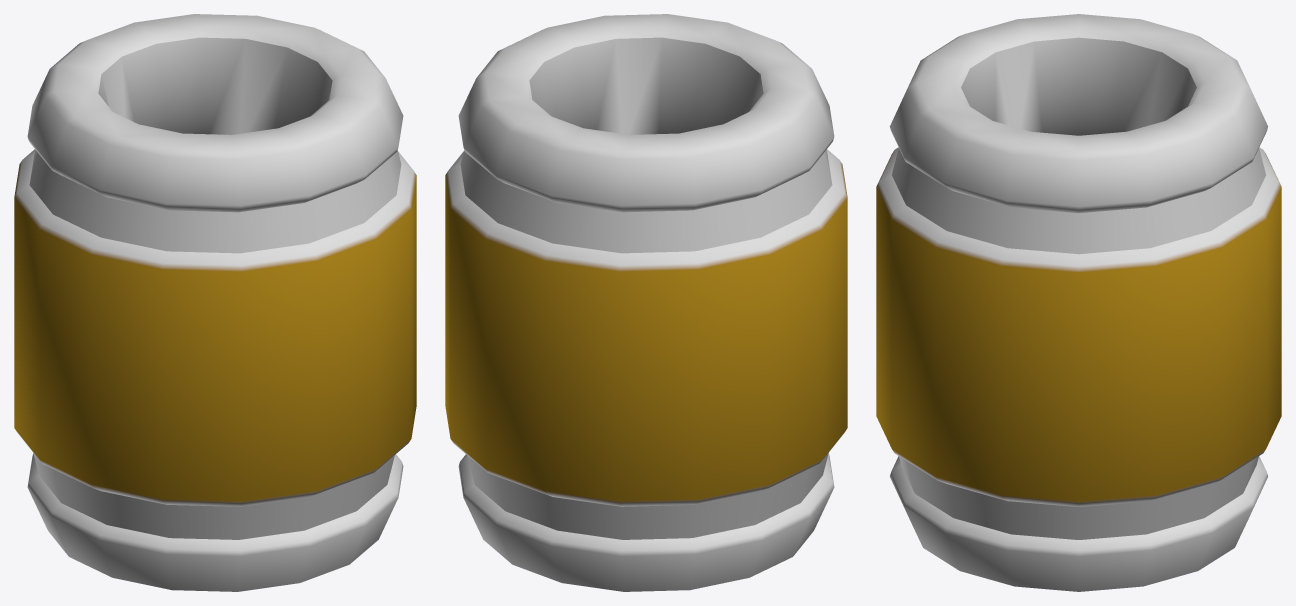
The model's file is Bin.FBX.
The picture shows the model from 3 angles, left to right: view 1: azimuth 30°, elevation 25°; view 2: azimuth 150°, elevation 25°; view 3: azimuth 270°, elevation 25°; orthographic projection.
Visible parts, largest first — view 1: sky_bin; view 2: sky_bin; view 3: sky_bin.
Part boxes in pixels (<box>): sky_bin: <box>14,14,416,591</box>; sky_bin: <box>445,14,847,591</box>; sky_bin: <box>876,14,1281,591</box>.
Size of the model in its own units: 1.01 by 1.21 by 1.01.
